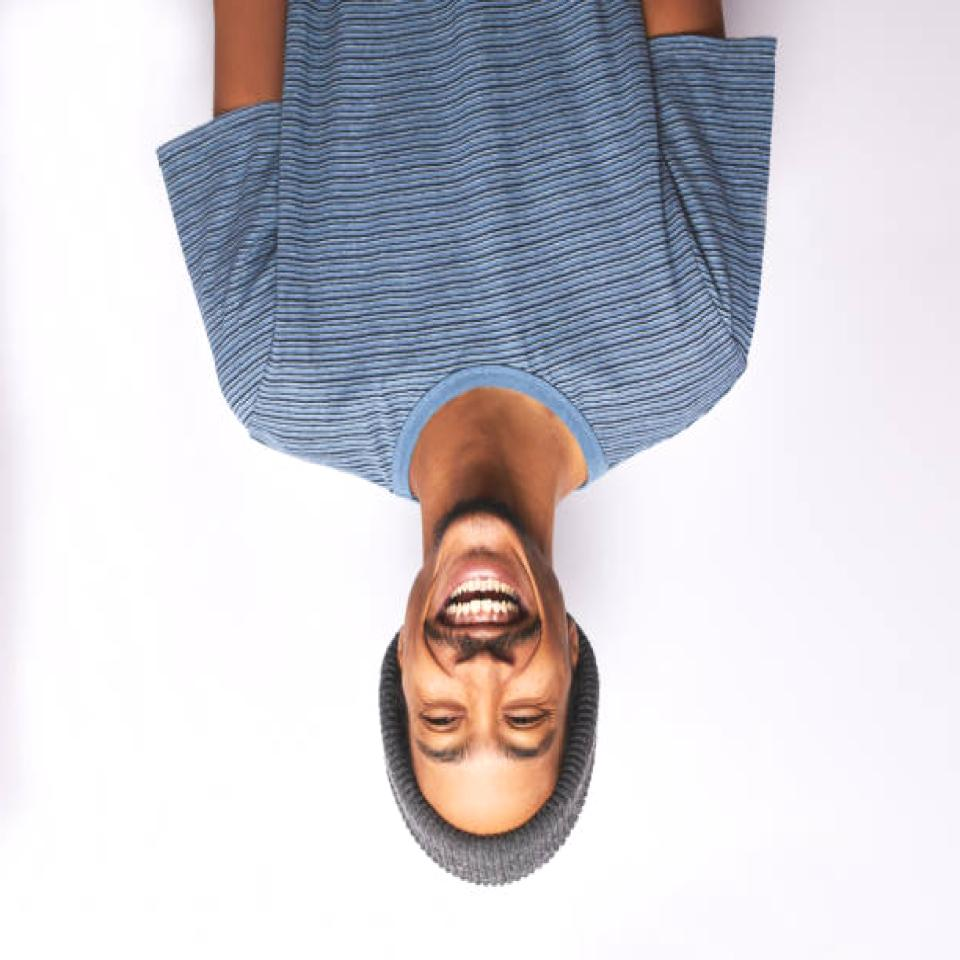Happiness: (394, 504, 576, 812)
